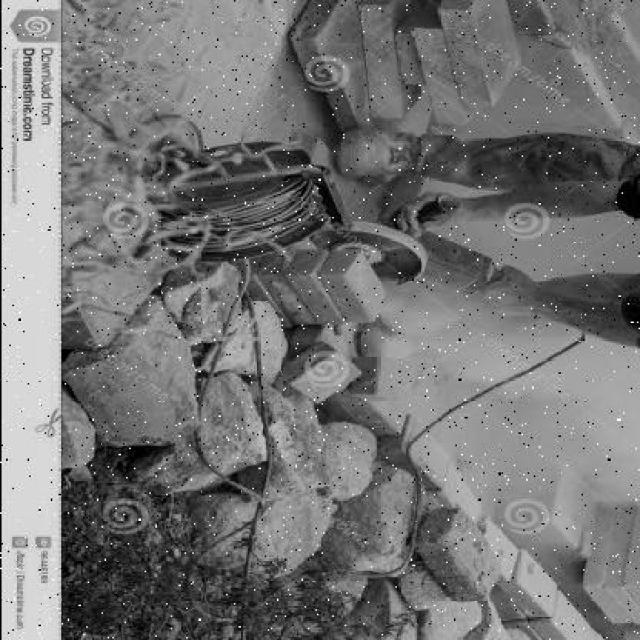shoes: (339, 124, 421, 178)
